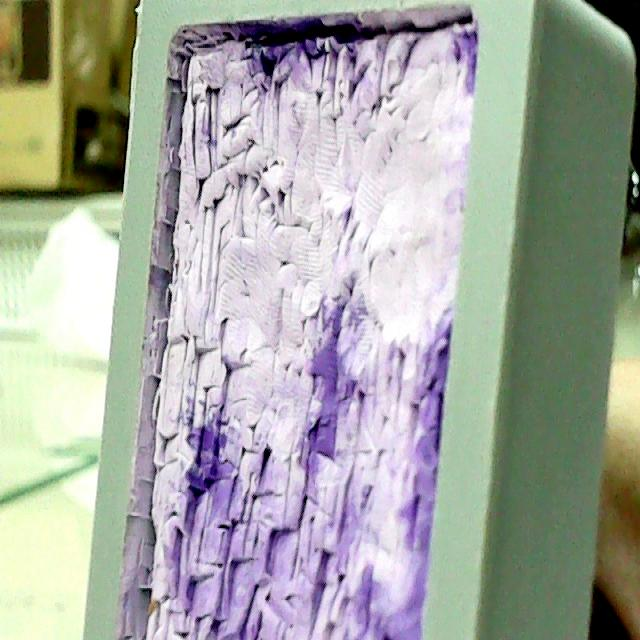block: (83, 0, 640, 639)
